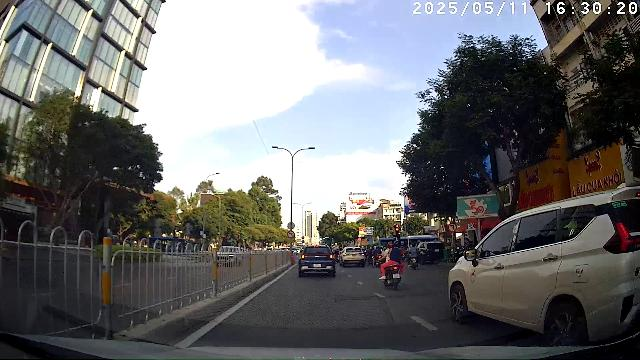123a-cam-re-trai: (448, 223, 457, 232), (287, 230, 295, 239)
